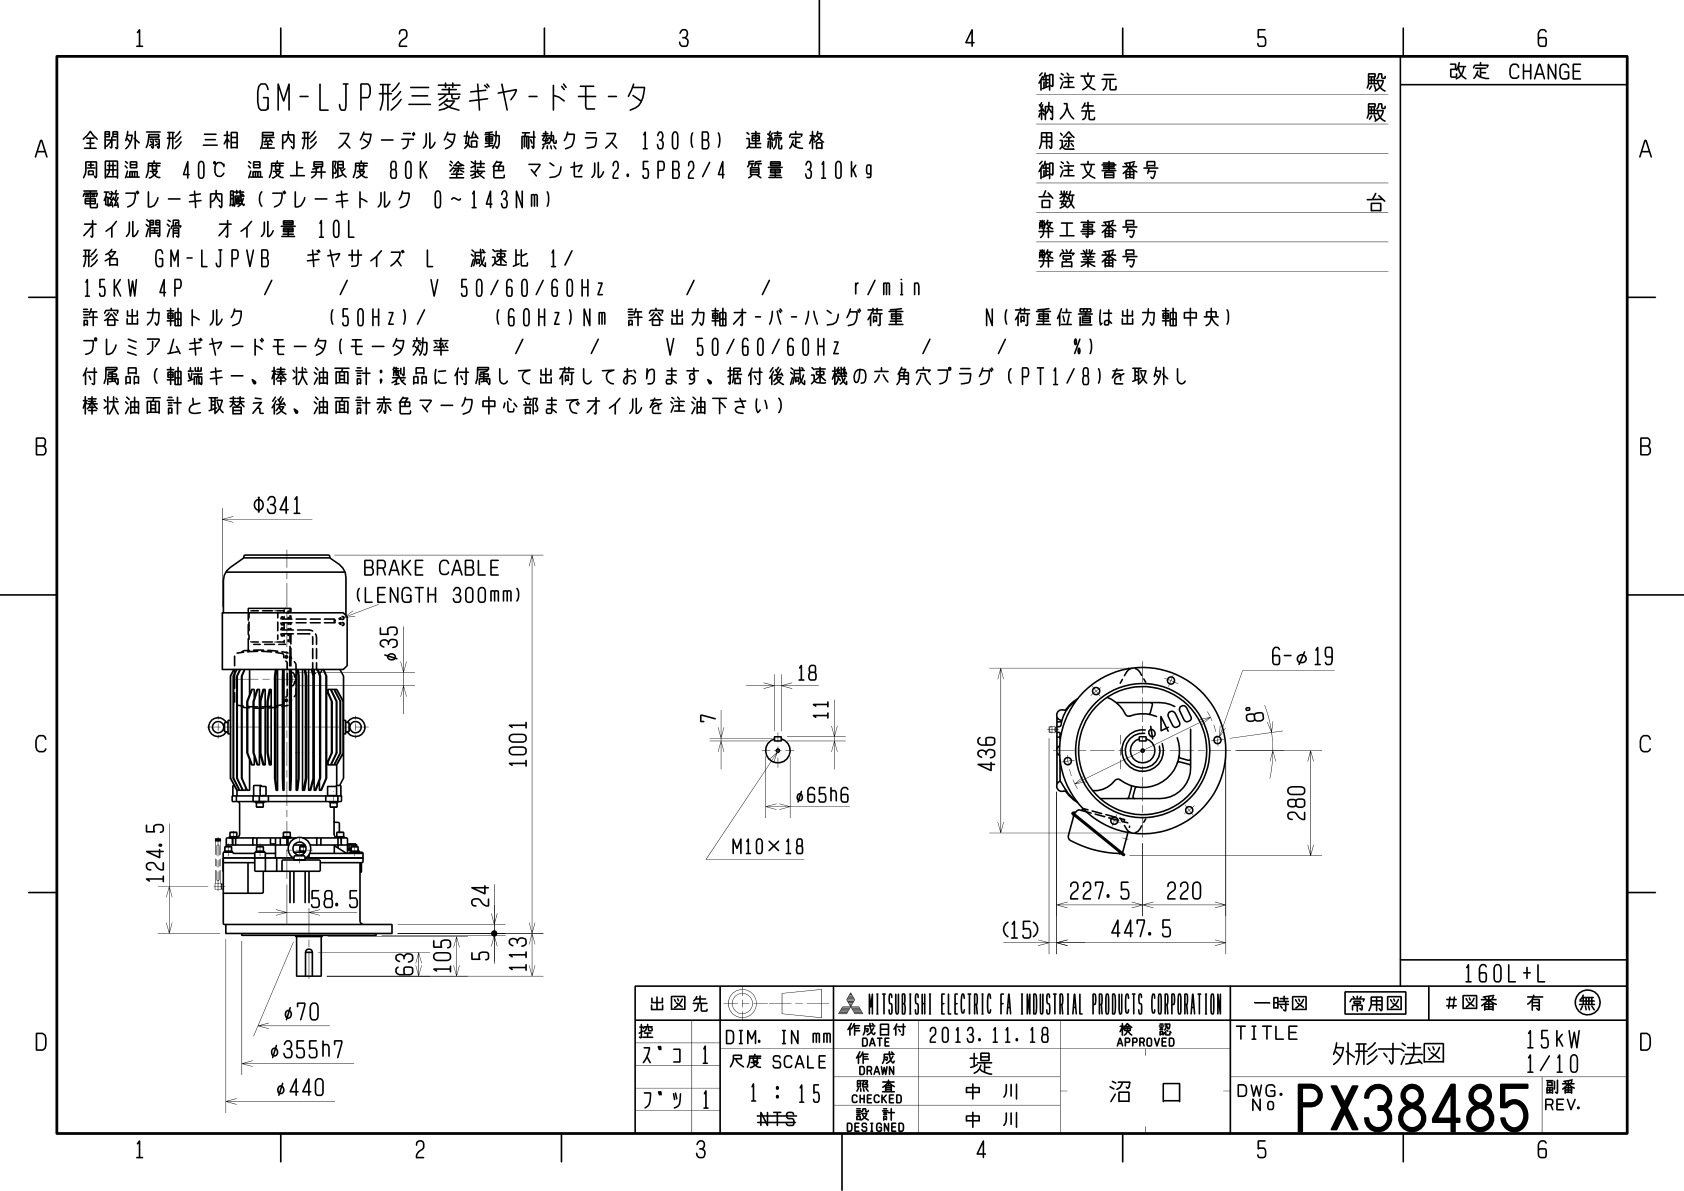GM_LJP_屋内_三相_立: (77, 467, 1364, 971)
